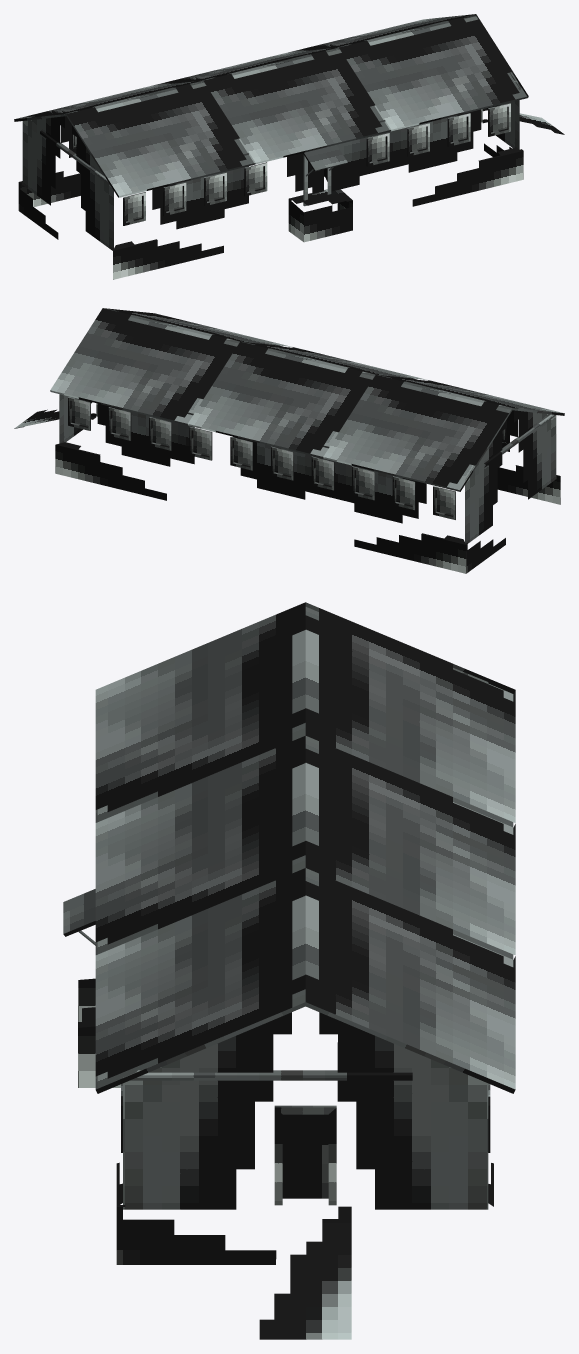
The model's file is pub.fbx.
3 renders of one model, top to bottom at view 1: azimuth 30°, elevation 25°; view 2: azimuth 150°, elevation 25°; view 3: azimuth 270°, elevation 25°, orthographic. The views are drawn at different scales.
Parts seen in each view (by area): view 1: Building_8; view 2: Building_8; view 3: Building_8.
Boxes of the visible parts, x1=… form: Building_8: x1=14, y1=14, x2=564, y2=279; Building_8: x1=14, y1=308, x2=564, y2=573; Building_8: x1=63, y1=602, x2=515, y2=1339.
Bounding box in the file's own units: 2610 × 671 × 1048.
